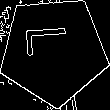L_E: (28, 33, 80, 68)
